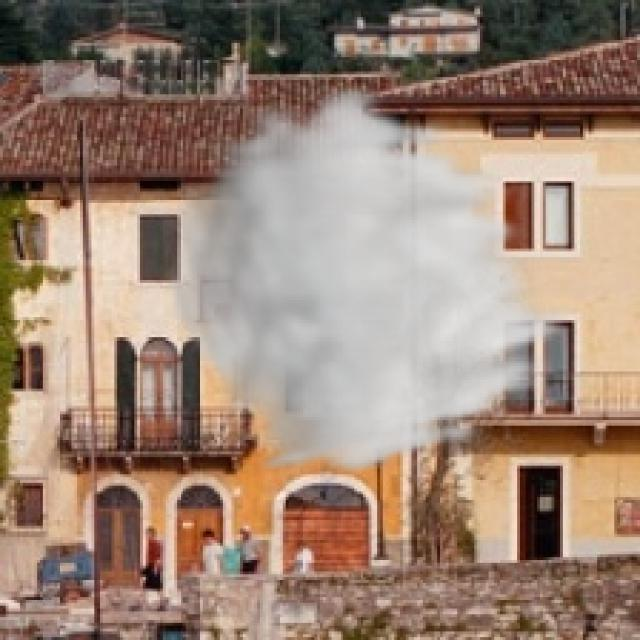smoke: (160, 80, 580, 477)
